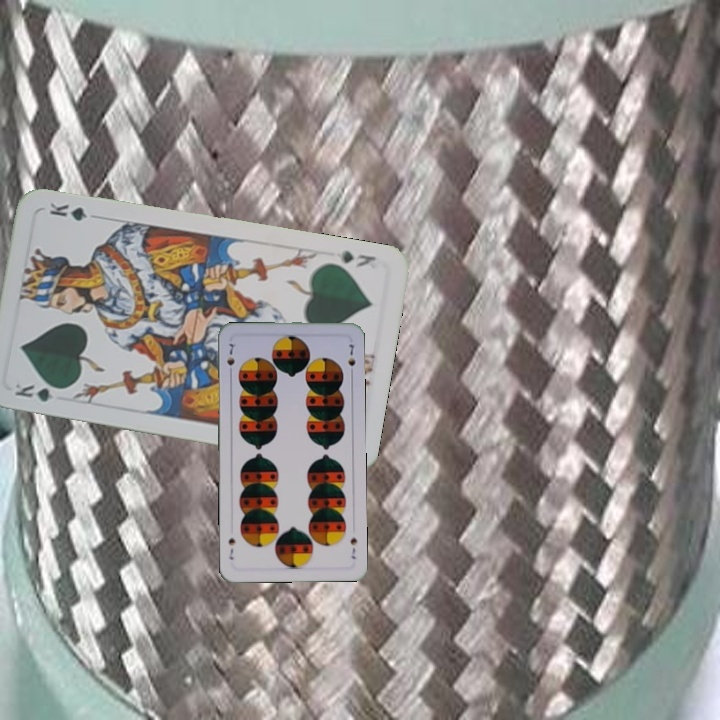GK: (10, 379, 68, 405), (336, 246, 379, 270)
S7: (223, 338, 237, 378), (346, 534, 359, 561)
